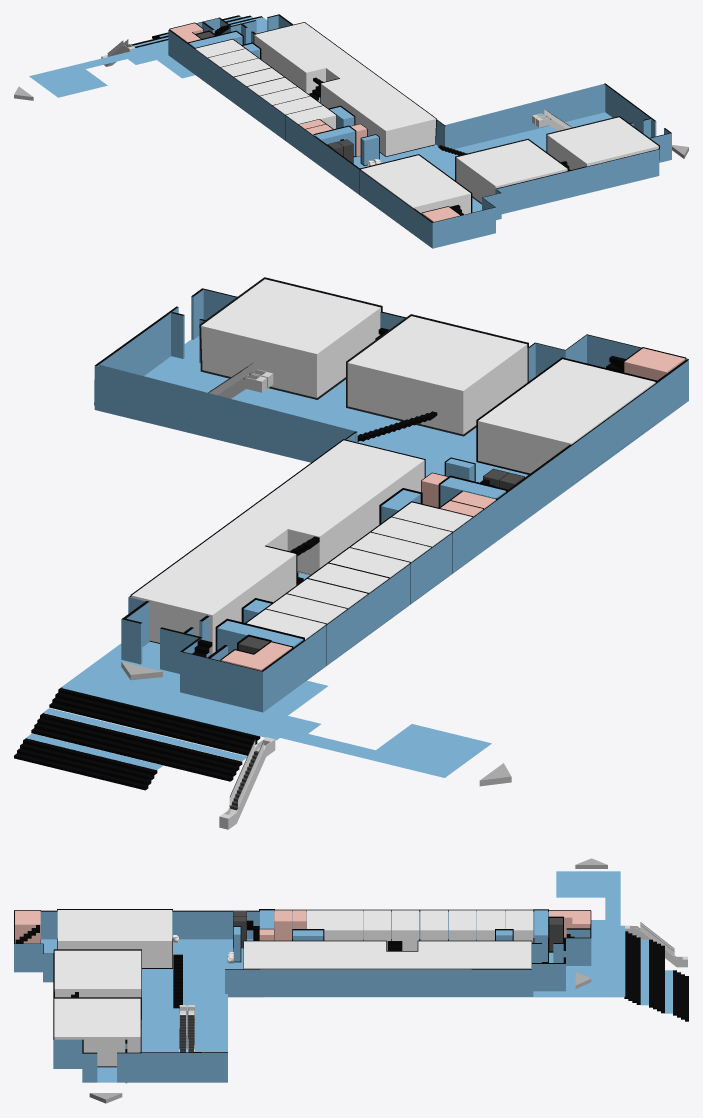
3 views of the same model, one above another, from view 1: azimuth 30°, elevation 25°; view 2: azimuth 150°, elevation 25°; view 3: azimuth 270°, elevation 25° (orthographic). The views are drawn at different scales.
Parts seen in each view (by area): view 1: object, room_10_1_12, room_10_1_2, room_10_1_1, room_10_1_3, object_情報コアゾーン, room_10_1_4, object_10_1_2, room_10_1_7, room_10_1_10, room_10_1_11, room_10_1_6 (+8 smaller); view 2: object, room_10_1_12, room_10_1_2, room_10_1_1, 階段_10_1_7, room_10_1_3, object_10101, object_情報コアゾーン, エスカレーター_10_1_1, room_10_1_6, room_10_1_9, room_10_1_10 (+11 smaller); view 3: object, room_10_1_12, room_10_1_3, room_10_1_1, room_10_1_2, 階段_10_1_7, object_情報コアゾーン, object_10101, room_10_1_7, room_10_1_9, room_10_1_6, room_10_1_8 (+12 smaller).
Part boxes in pixels (x1=…): object: x1=29, y1=14, x2=671, y2=248; room_10_1_12: x1=254, y1=22, x2=436, y2=156; room_10_1_2: x1=456, y1=140, x2=567, y2=202; room_10_1_1: x1=547, y1=117, x2=658, y2=169; room_10_1_3: x1=361, y1=155, x2=470, y2=214; object_情報コアゾーン: x1=253, y1=22, x2=436, y2=156; room_10_1_4: x1=286, y1=106, x2=336, y2=128; object_10_1_2: x1=314, y1=126, x2=355, y2=156; room_10_1_7: x1=247, y1=77, x2=297, y2=96; room_10_1_10: x1=208, y1=49, x2=258, y2=67; room_10_1_11: x1=195, y1=39, x2=244, y2=57; room_10_1_6: x1=260, y1=87, x2=310, y2=105; object: x1=26, y1=288, x2=688, y2=777; room_10_1_12: x1=132, y1=440, x2=424, y2=653; room_10_1_2: x1=347, y1=316, x2=527, y2=434; room_10_1_1: x1=201, y1=279, x2=380, y2=397; 階段_10_1_7: x1=14, y1=687, x2=260, y2=790; room_10_1_3: x1=478, y1=359, x2=655, y2=473; object_10101: x1=199, y1=277, x2=382, y2=399; object_情報コアゾーン: x1=130, y1=439, x2=425, y2=655; エスカレーター_10_1_1: x1=219, y1=737, x2=275, y2=829; room_10_1_6: x1=350, y1=532, x2=430, y2=562; room_10_1_9: x1=287, y1=579, x2=367, y2=608; room_10_1_10: x1=266, y1=594, x2=346, y2=624; object: x1=14, y1=871, x2=672, y2=1083; room_10_1_12: x1=244, y1=941, x2=531, y2=968; room_10_1_3: x1=57, y1=910, x2=172, y2=967; room_10_1_1: x1=54, y1=998, x2=140, y2=1066; room_10_1_2: x1=54, y1=950, x2=141, y2=997; 階段_10_1_7: x1=624, y1=931, x2=688, y2=1021; object_情報コアゾーン: x1=243, y1=940, x2=532, y2=969; object_10101: x1=53, y1=997, x2=141, y2=1067; room_10_1_7: x1=391, y1=910, x2=419, y2=950; room_10_1_9: x1=448, y1=910, x2=476, y2=940; room_10_1_6: x1=363, y1=910, x2=390, y2=950; room_10_1_8: x1=420, y1=910, x2=447, y2=940.
Size of the model in its own units: 2.45 by 0.3448 by 2.9.
